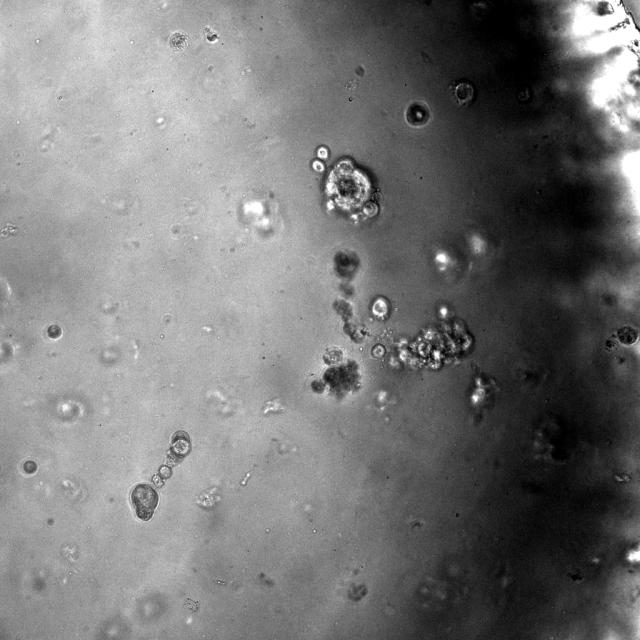organoid: (371, 301, 474, 371), (130, 430, 191, 521), (311, 145, 380, 224), (311, 346, 360, 398), (332, 297, 368, 341), (333, 249, 360, 296), (605, 325, 639, 351), (404, 101, 430, 128), (451, 78, 476, 106), (369, 295, 392, 321), (169, 31, 188, 50), (46, 324, 62, 339), (205, 26, 219, 43), (22, 460, 37, 474)
